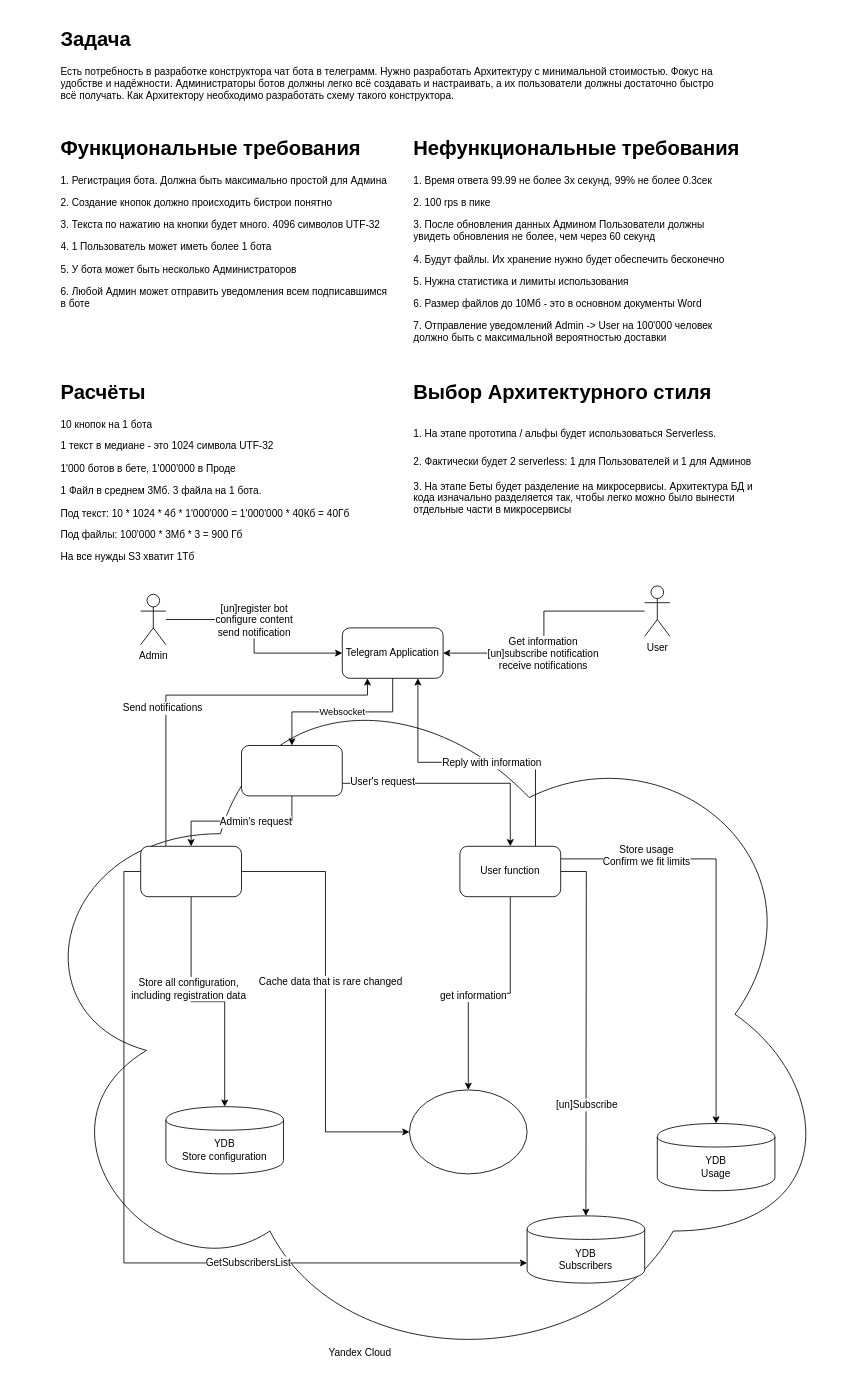
Some shapes in this 853 by 1390 pixel diagram are drawn without their labels. Each missing label, with the centre of its shape:
"Admin Function" belongs at [191,871].
"GW API" belongs at [291,770].
"Permanent: S3 as file storage Temporal: use it as cache and Read DB" belongs at [468,1131].
